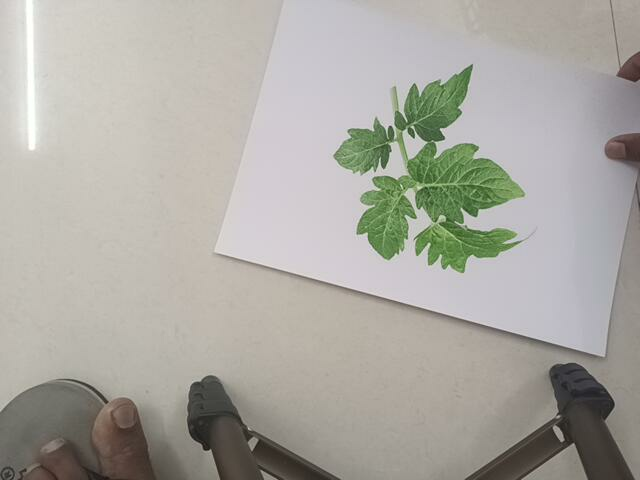Tomamto_Leaf_Healthy: (325, 61, 530, 274)
